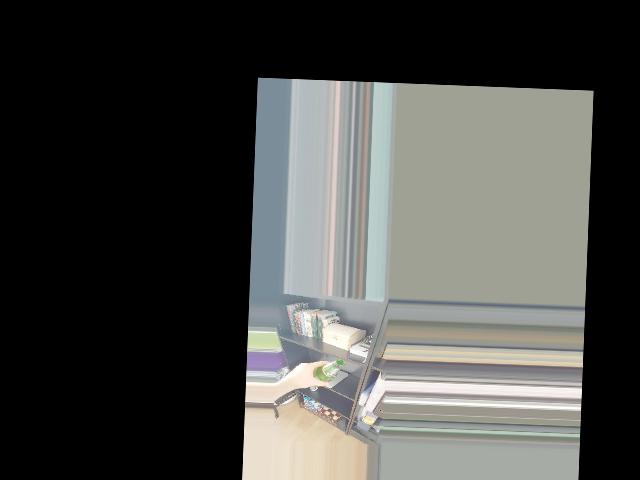beer: (309, 358, 345, 388)
